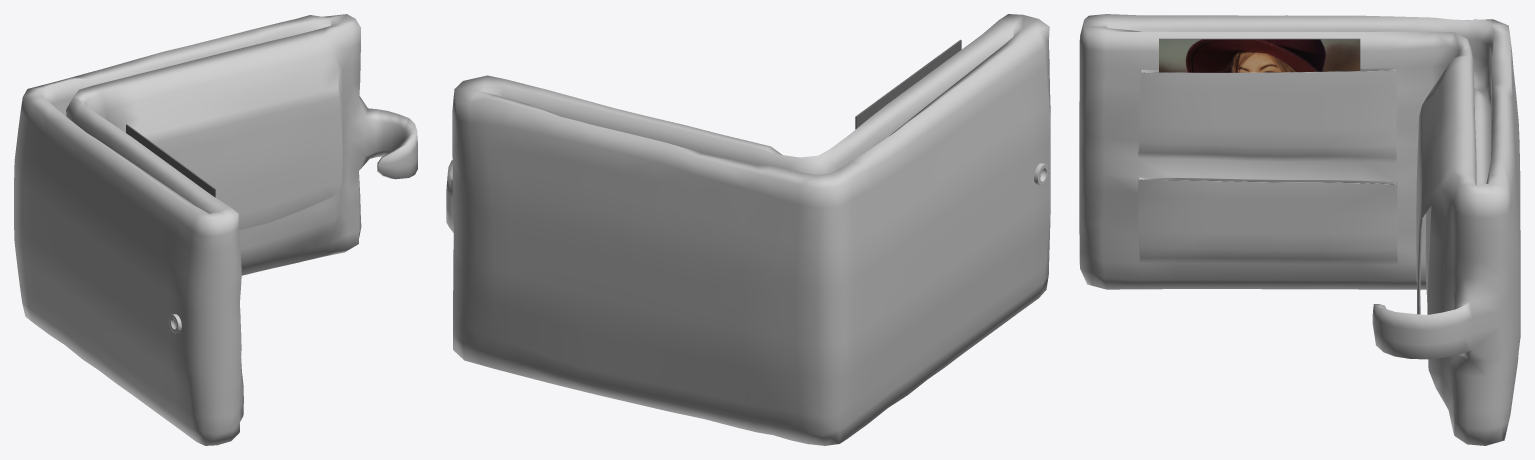
Rendered from WalletAndPhoto_geo.fbx.
3 views of the same model, side by side, from view 1: azimuth 30°, elevation 25°; view 2: azimuth 150°, elevation 25°; view 3: azimuth 270°, elevation 25° (orthographic). The views are drawn at different scales.
Parts seen in each view (by area): view 1: spotLight3, polySurface5; view 2: spotLight3, polySurface5; view 3: spotLight3, polySurface5.
Boxes of the visible parts, x1,y1,x2,y2 form: spotLight3: (14,14,417,445); polySurface5: (126,124,215,197); spotLight3: (446,14,1050,445); polySurface5: (855,39,961,129); spotLight3: (1079,14,1520,445); polySurface5: (1159,38,1360,72).
Size of the model in its own units: 11.74 by 7.02 by 10.76.
